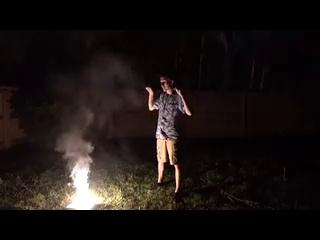Fire: (59, 150, 104, 210)
